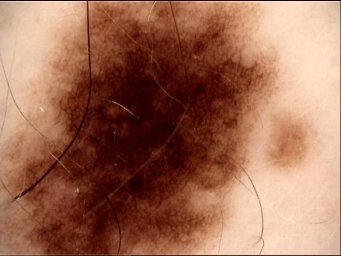melanoma: (6, 1, 265, 256), (268, 117, 311, 172)
